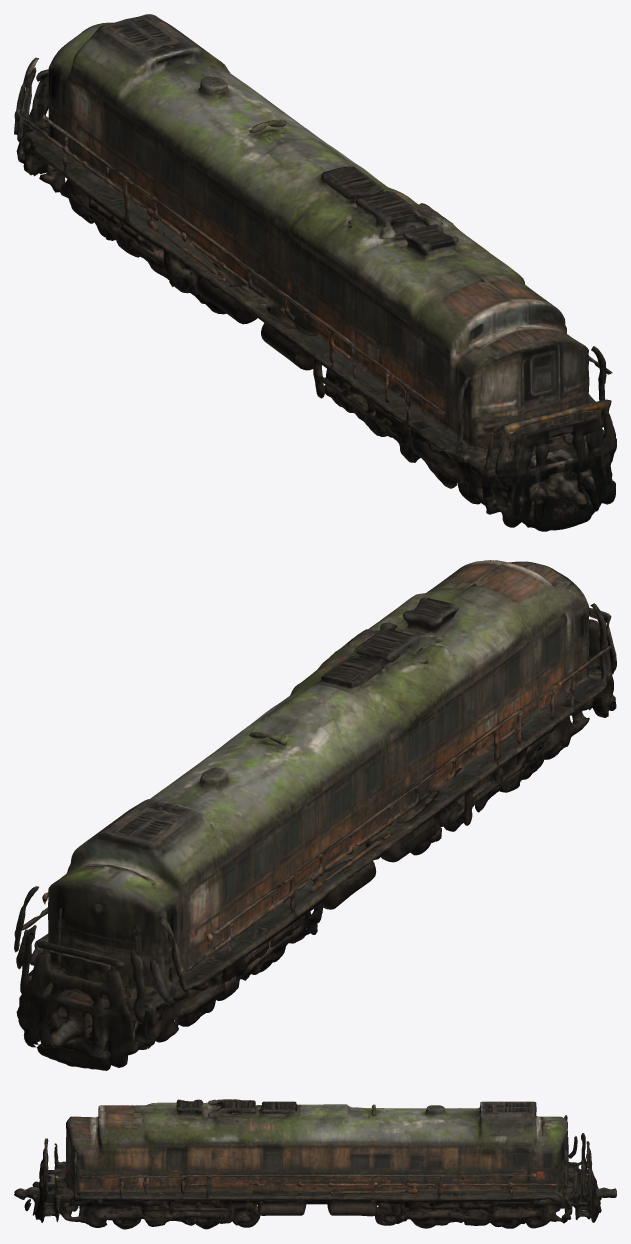
File: A_big_train_with_A_da_0423084805_refine.fbx
3 renders of one model, top to bottom at view 1: azimuth 30°, elevation 25°; view 2: azimuth 150°, elevation 25°; view 3: azimuth 270°, elevation 25°, orthographic. The views are drawn at different scales.
Visible parts, largest first — view 1: Mesh1; view 2: Mesh1; view 3: Mesh1.
Boxes of the visible parts, box(x1,y1,x2,y2) form: Mesh1: box(14, 14, 616, 531); Mesh1: box(14, 560, 616, 1070); Mesh1: box(14, 1099, 616, 1229).
Size of the model in its own units: 37.87 by 42.41 by 201.
1 material, 1 textured.
